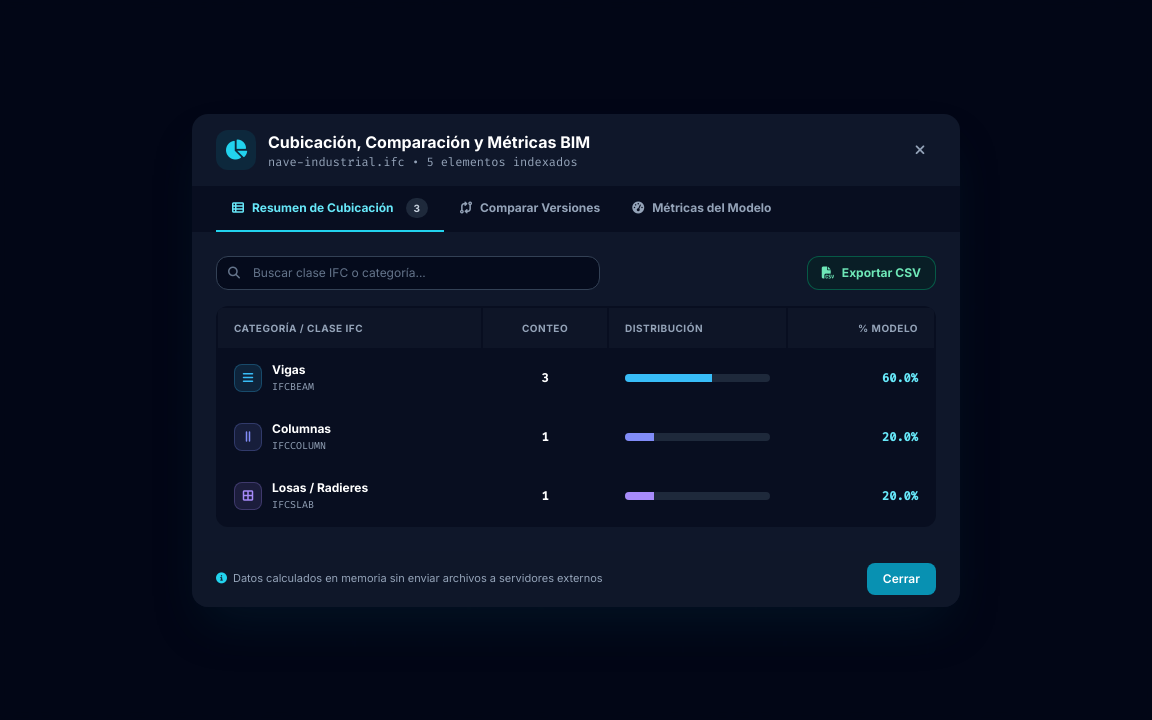
Test: IfcQuantitiesModal - Cantidades y Comparación (Fase 6) › permite filtrar la tabla de cubicación por nombre de categoría
Type "Colum" into the field with placeholder "Buscar clase IFC o categoría..." at (408, 272), box [216, 256, 600, 290]
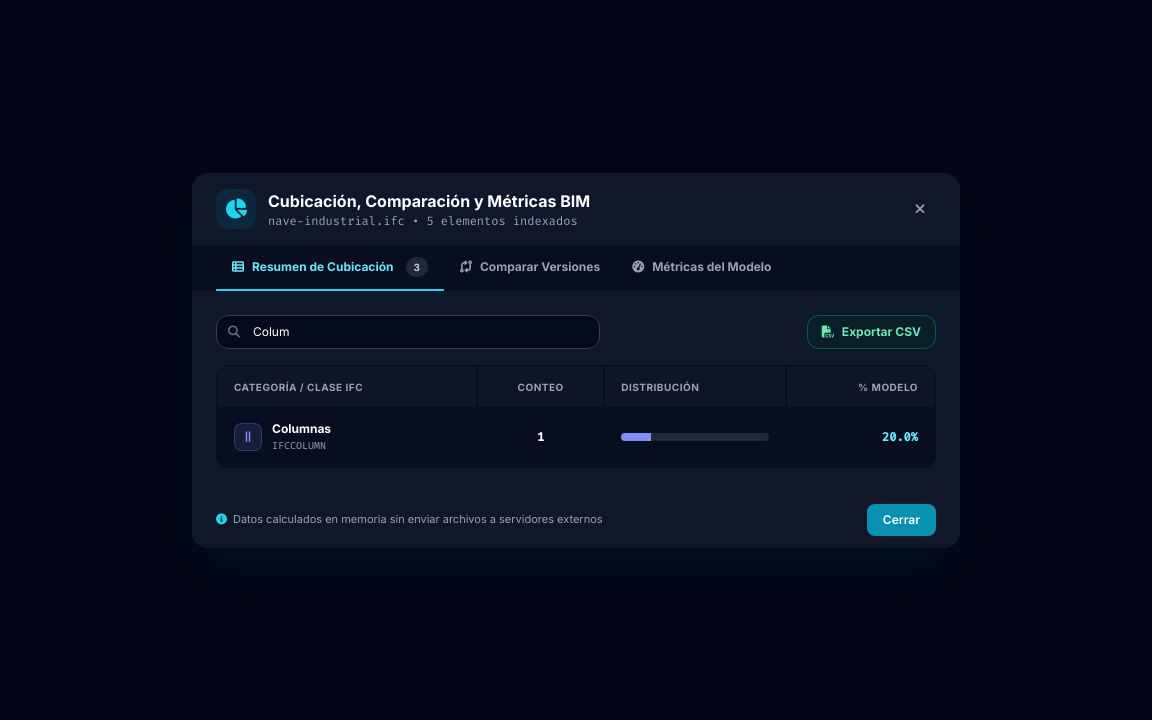
Expected: the text "Columnas" is shown, [272, 420, 331, 436]
Result: the text "Losas" is gone
